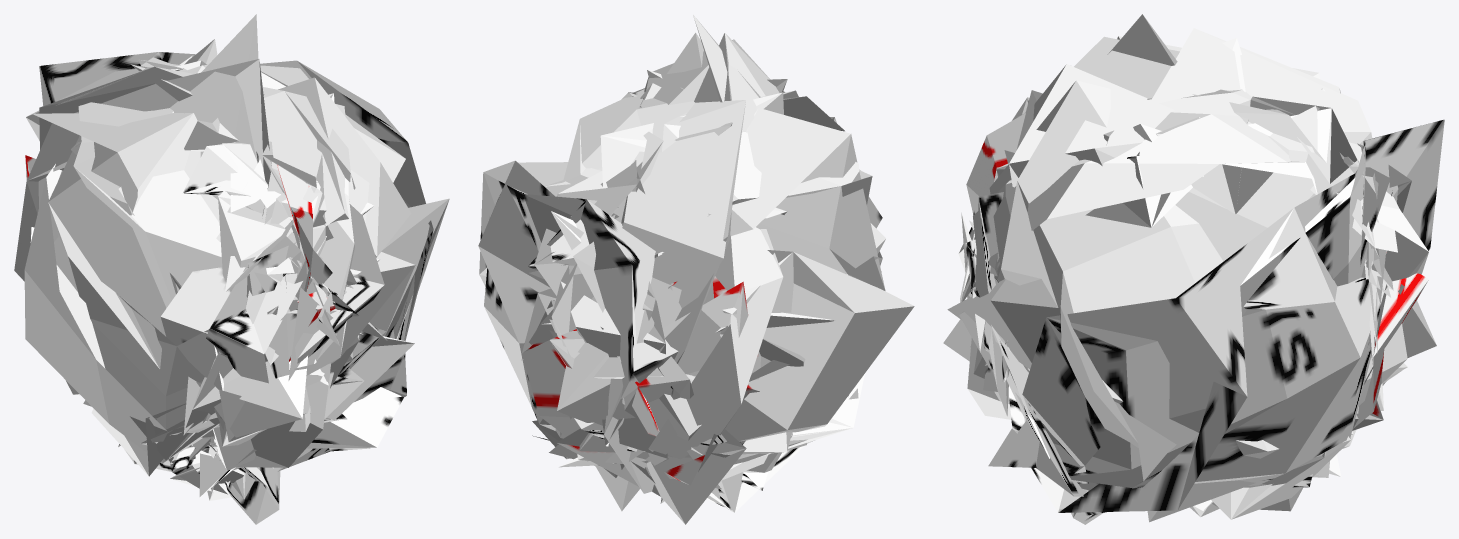
File: paperball2.fbx
The picture shows the model from 3 angles, left to right: view 1: azimuth 30°, elevation 25°; view 2: azimuth 150°, elevation 25°; view 3: azimuth 270°, elevation 25°; orthographic projection. The views are drawn at different scales.
Parts seen in each view (by area): view 1: Plane; view 2: Plane; view 3: Plane.
Part boxes in pixels (left/top/right/bottom): Plane: left=14, top=14, right=449, bottom=524; Plane: left=478, top=14, right=914, bottom=524; Plane: left=943, top=14, right=1444, bottom=524.
Size of the model in its own units: 43.58 by 54.97 by 47.58.
Materials: 1 (1 with a texture image).
